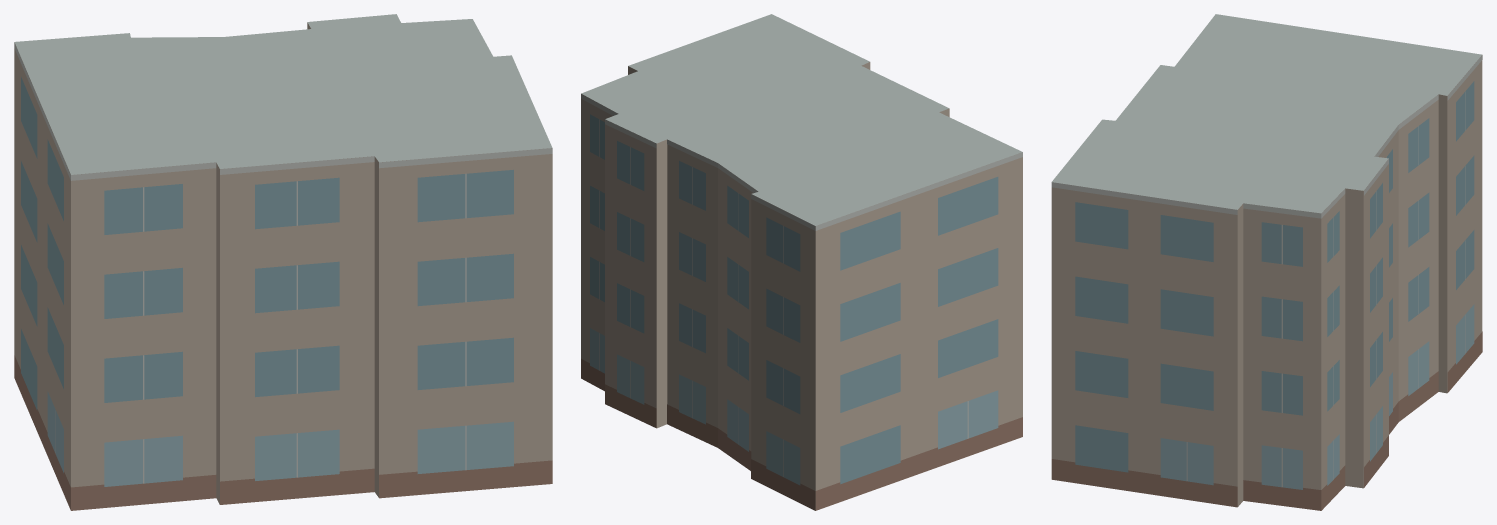
Rendered from survey-upis-32932795.glb.
The picture shows the model from 3 angles, left to right: view 1: azimuth 30°, elevation 25°; view 2: azimuth 150°, elevation 25°; view 3: azimuth 270°, elevation 25°; orthographic projection. The views are drawn at different scales.
Visible parts, largest first — view 1: survey-upis-32932795.tmp; view 2: survey-upis-32932795.tmp; view 3: survey-upis-32932795.tmp.
Part boxes in pixels (x1=…): survey-upis-32932795.tmp: x1=14, y1=14, x2=552, y2=510; survey-upis-32932795.tmp: x1=581, y1=14, x2=1022, y2=510; survey-upis-32932795.tmp: x1=1051, y1=14, x2=1482, y2=510.
Bounding box in the file's own units: 19.99 × 13.9 × 18.26.
